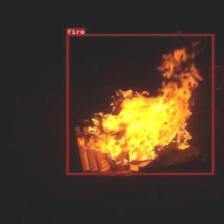fire: (66, 34, 214, 175)
